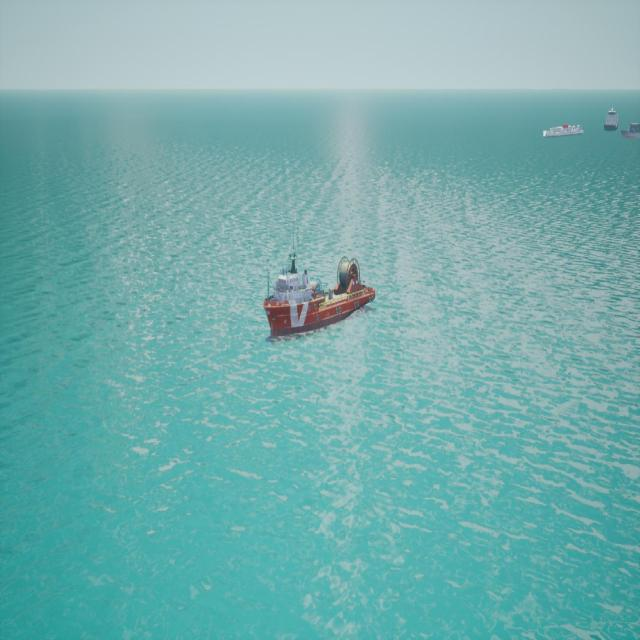tug boat: (263, 252, 376, 342)
